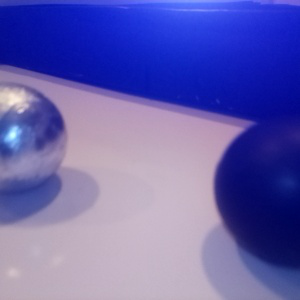alive_ball: (1, 81, 68, 195)
dead_ball: (213, 113, 300, 267)
